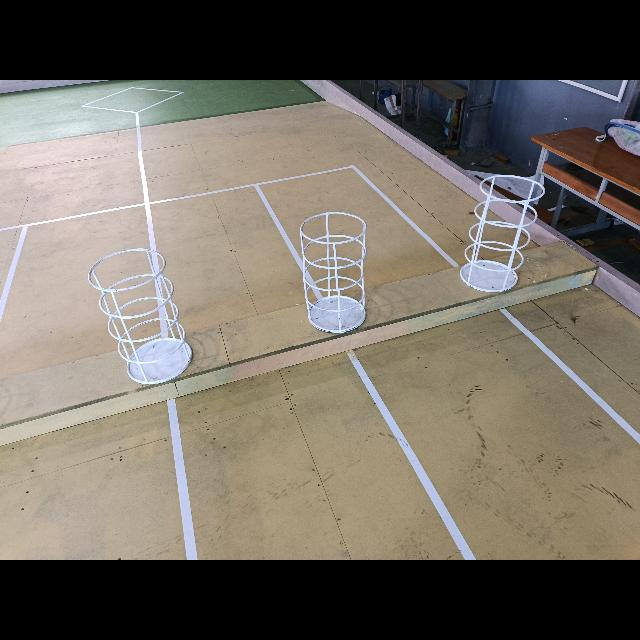S: (87, 248, 194, 384), (459, 175, 546, 293), (301, 212, 368, 332)
